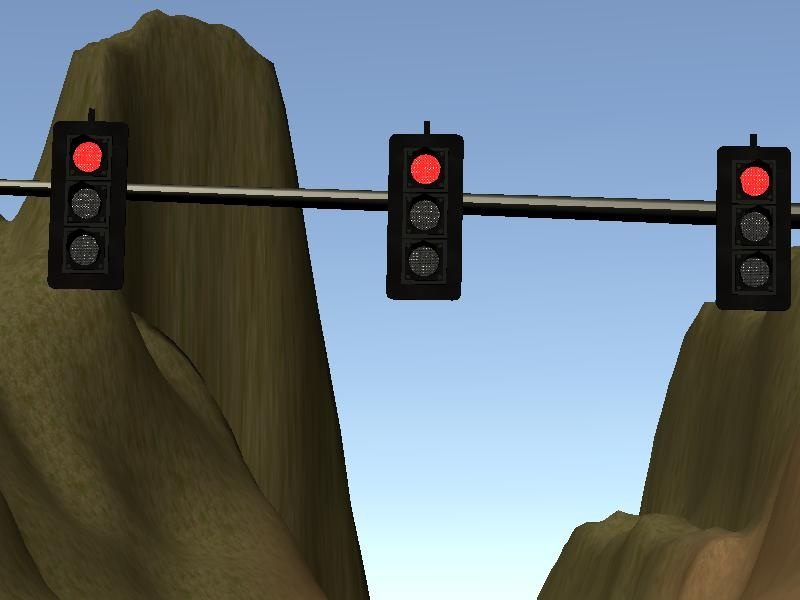red: (715, 147, 792, 312), (387, 130, 462, 299), (53, 121, 124, 288)
